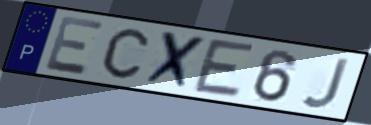6: (252, 48, 300, 103)
C: (100, 27, 151, 81)
E: (190, 36, 258, 100), (43, 14, 108, 77)
J: (299, 57, 353, 111)
X: (140, 29, 210, 94)
